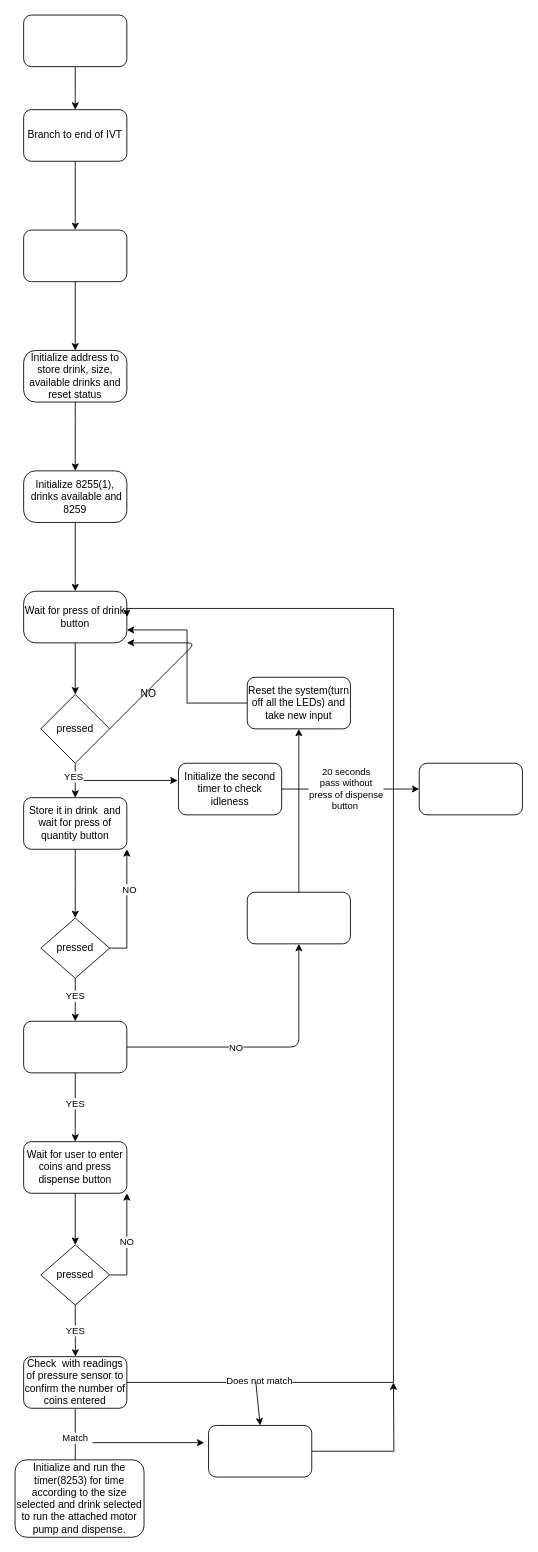
Some shapes in this 538 by 1552 pixel diagram are drawn without their labels. The box of each missing label's shape, as (x1, y1, x2, y2) in pixels:
Check if sufficient quantity is present: (23, 1020, 127, 1073)
Initialize ds, es, ss to start of ram: (23, 229, 127, 282)
Main: (23, 14, 127, 67)
Pass interrupt through 8259: (418, 762, 522, 815)
Reset the system(switch off all the LEDs and wait for input.: (208, 1425, 312, 1477)
Switch on the Insufficient LED: (246, 891, 350, 944)
